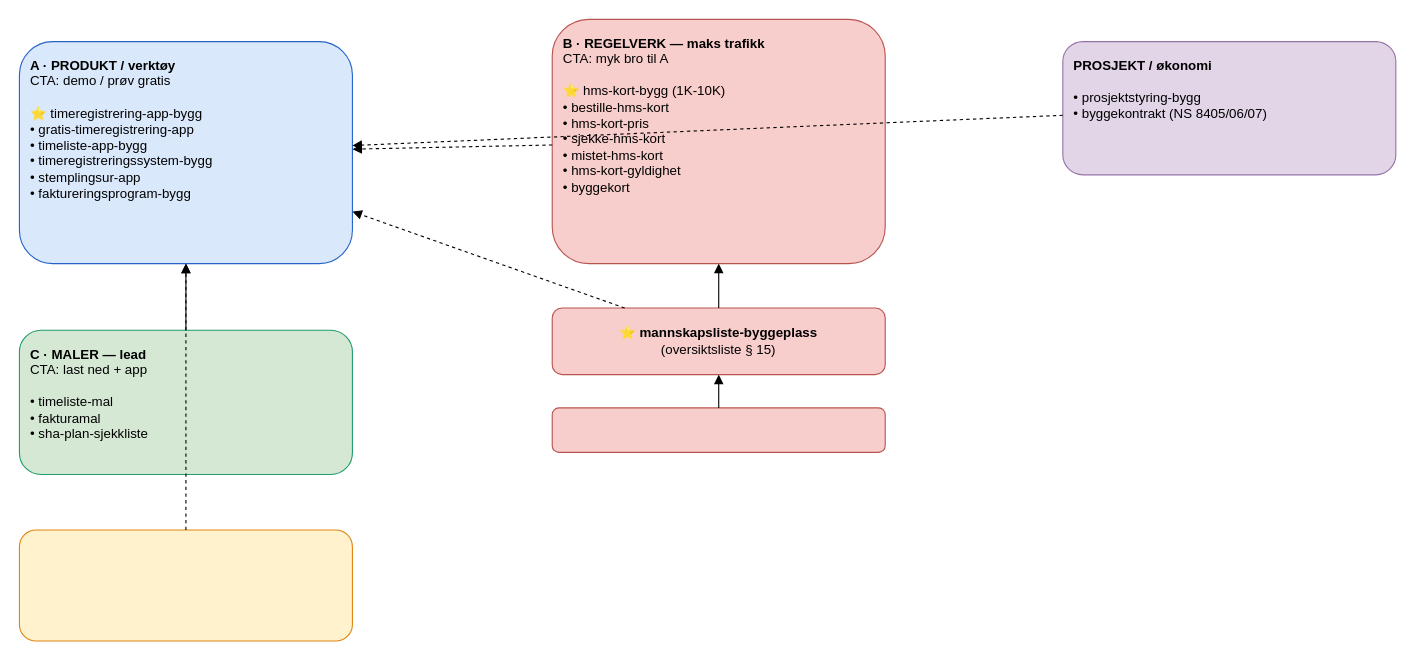
The diagram is 1415 pixels wide and 660 high, and some of its shapes have lost their labels. The centre of each missing label's shape, as x and y in pixels:
"D · PRIS CTA: fang timene → A • timepris-snekker" goes at (185,585).
"sha-plan" goes at (718,429).
